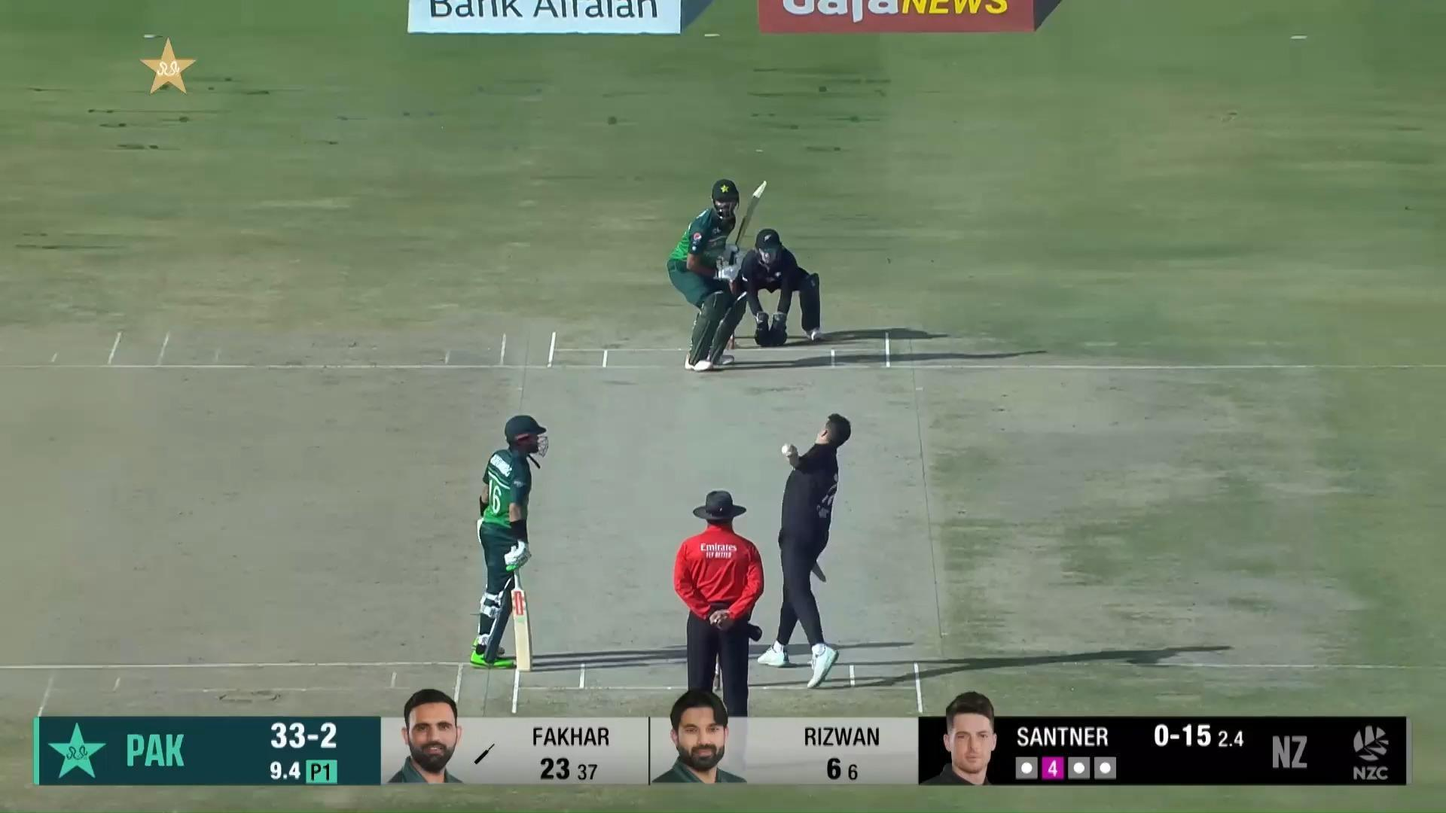BM 1: (667, 178, 770, 373)
BO: (757, 411, 852, 687)
